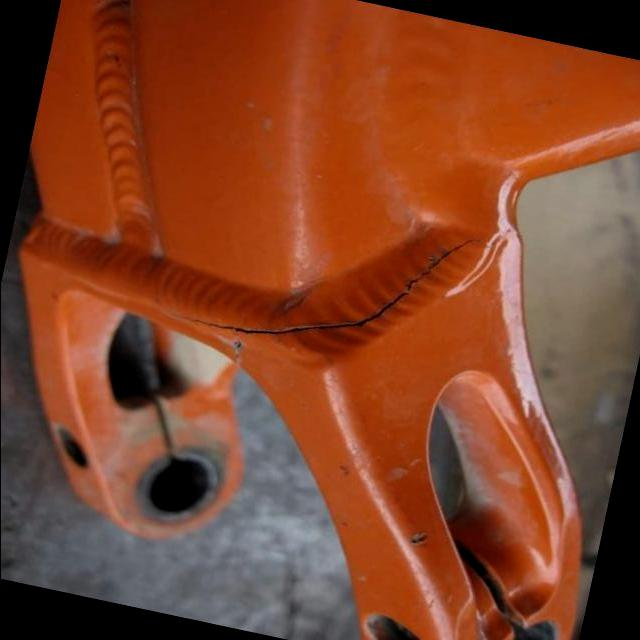defect: (149, 234, 496, 369)
